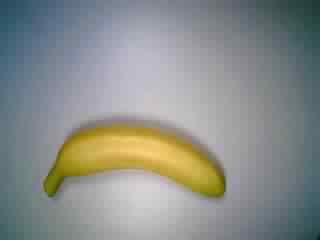banana: (38, 114, 230, 211)
